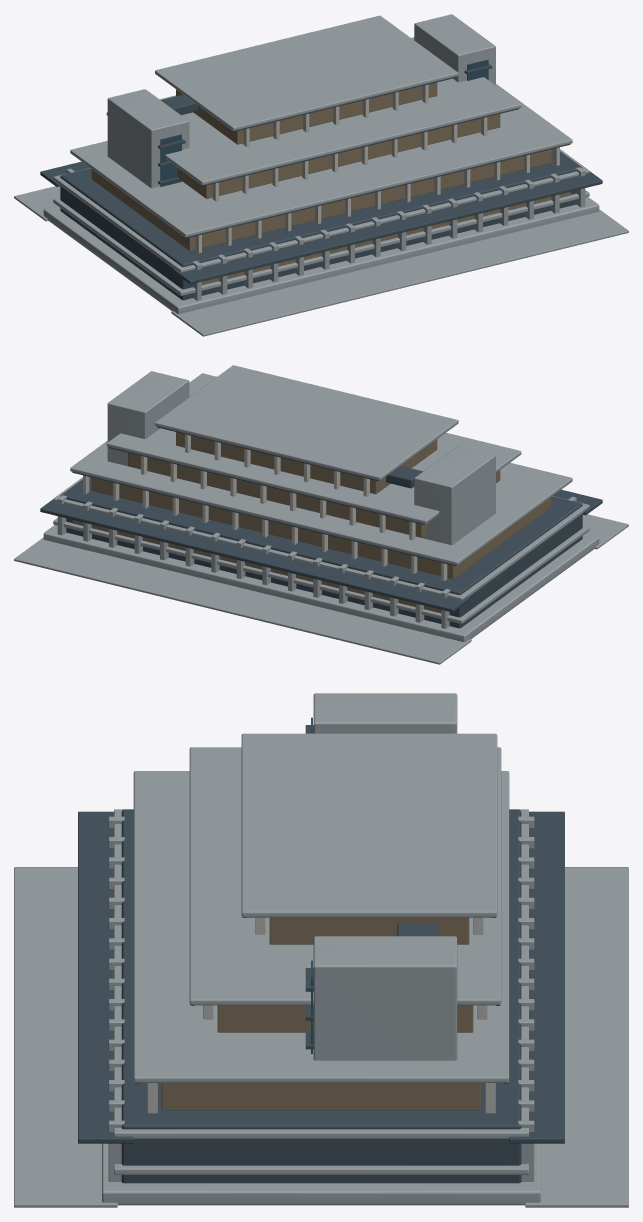
Rendered from TransitTerraces.fbx.
3 renders of one model, top to bottom at view 1: azimuth 30°, elevation 25°; view 2: azimuth 150°, elevation 25°; view 3: azimuth 270°, elevation 25°, orthographic. The views are drawn at different scales.
Visible parts, largest first — view 1: TransitTerraces; view 2: TransitTerraces; view 3: TransitTerraces.
Part boxes in pixels (x1,y1,x2,y2): TransitTerraces: (14,14,628,336); TransitTerraces: (14,365,628,664); TransitTerraces: (14,693,628,1207).
Bounding box in the file's own units: 100 × 29.92 × 77.
